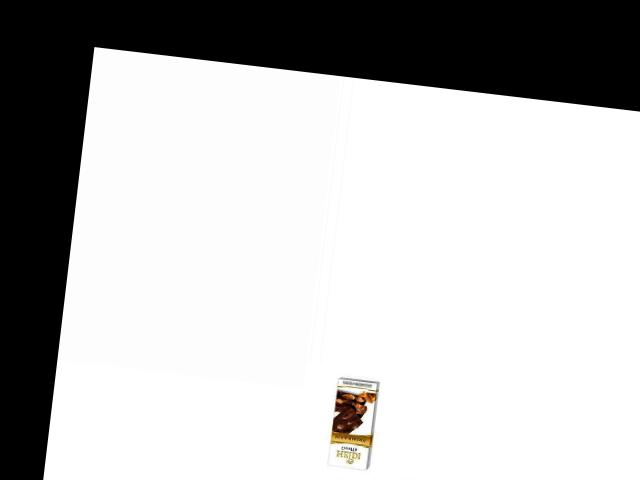chocolate: (318, 377, 386, 476)
